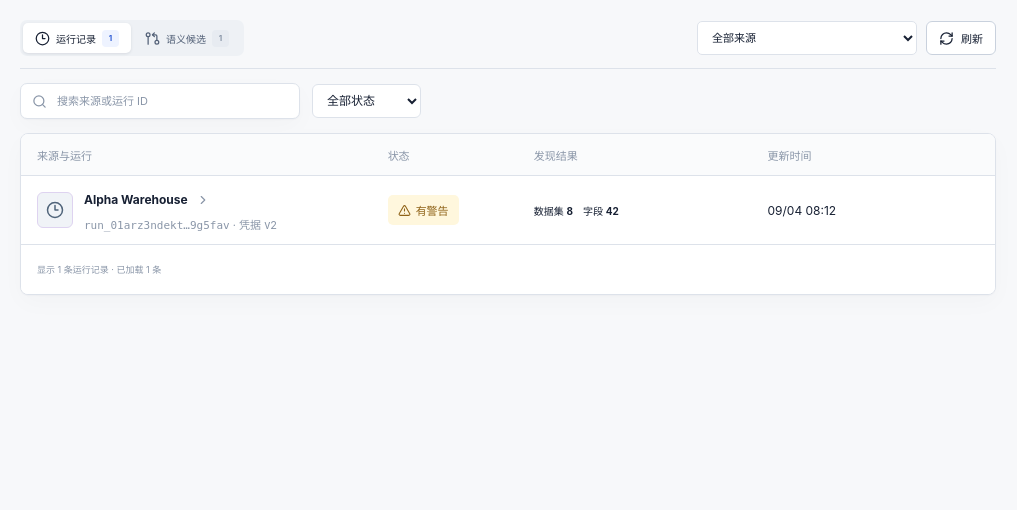
Scenario: real source and candidate workspace › preserves explicit candidate dismissal without creating production
Click the tab "语义候选 1" at x=187, y=38, box [133,23,241,53]
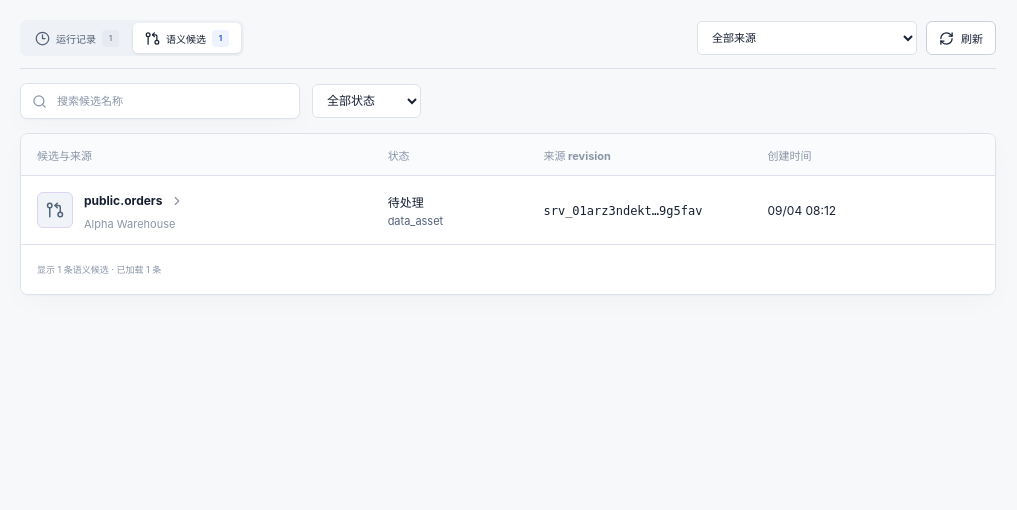
Click the button "public.orders" at x=134, y=201, box [84,189,184,213]
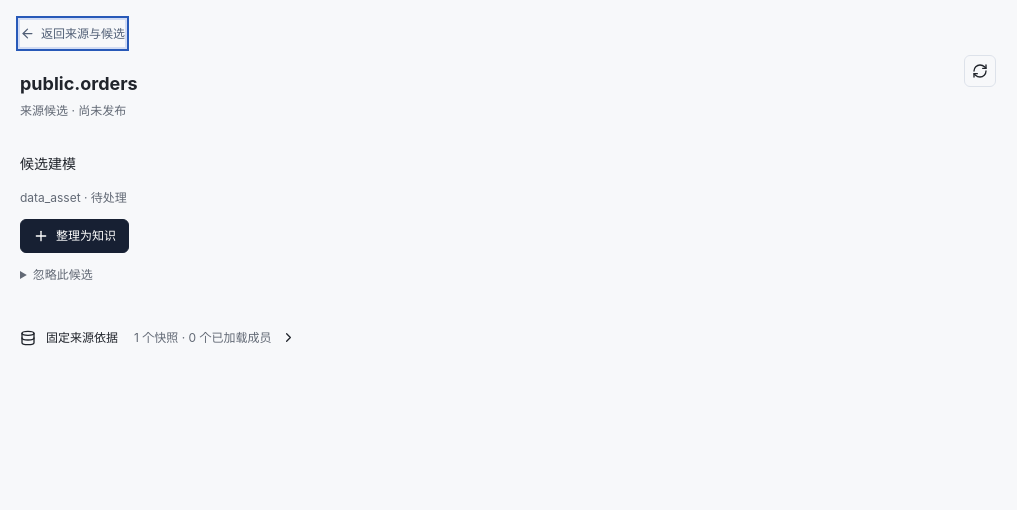
Click the heading "忽略此候选" at x=63, y=274, box [33,267,93,282]
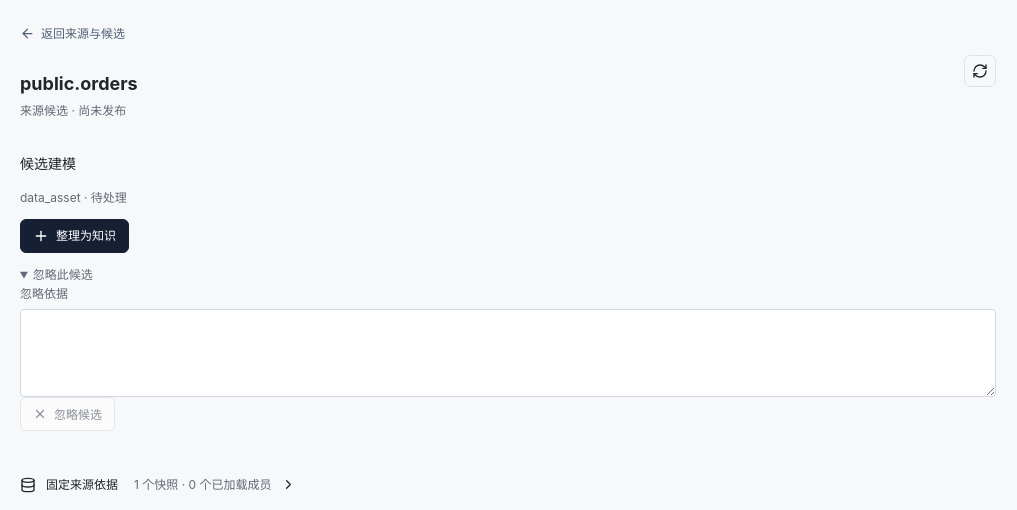
Result: the button "忽略候选" is disabled at [20,397,115,431]
Type "Not part of the governed scope" into the text box labelled "忽略依据" at x=508, y=353, box [20,309,996,397]
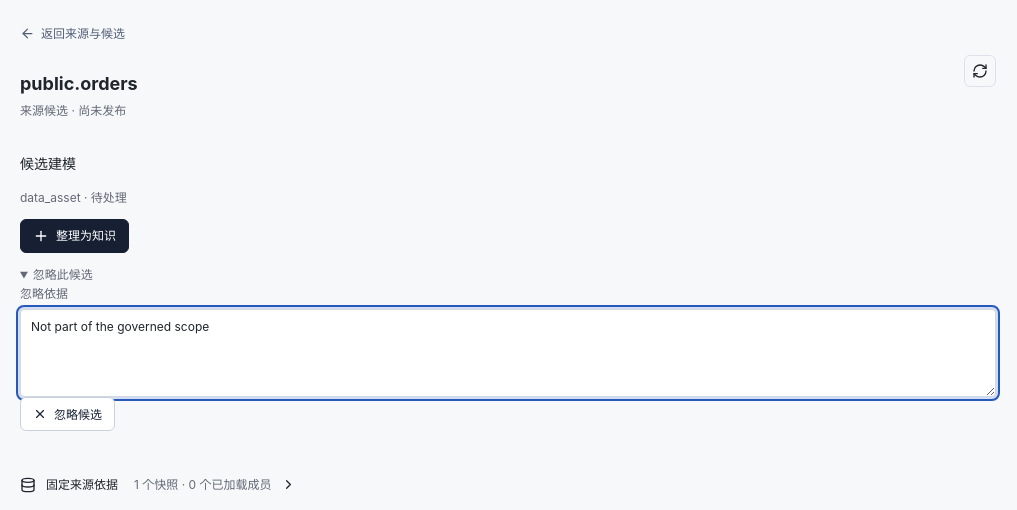
Click the button "忽略候选" at x=68, y=414, box [20,397,115,431]
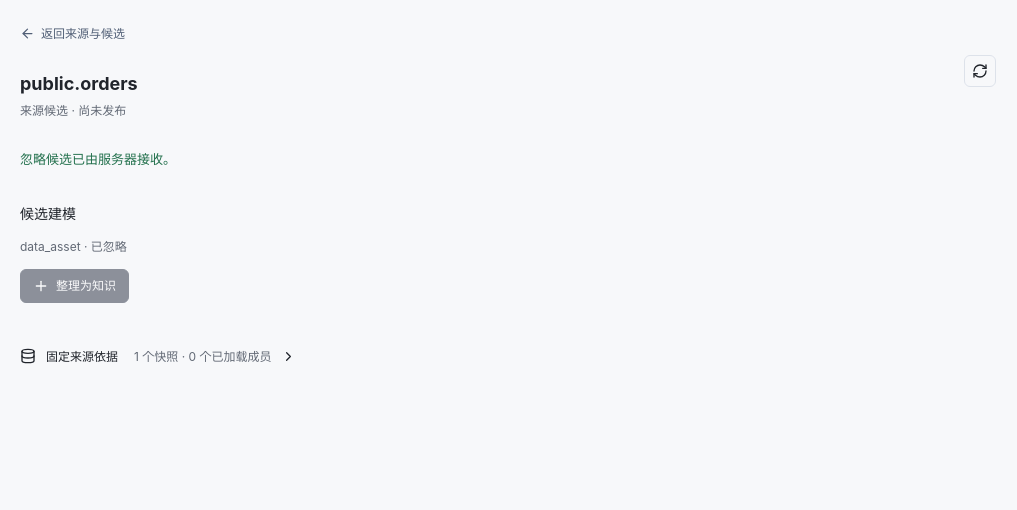
Result: the text "忽略候选已由服务器接收。" is shown at [20,151,176,167]
Result: the button "整理为知识" is disabled at [20,268,129,302]
